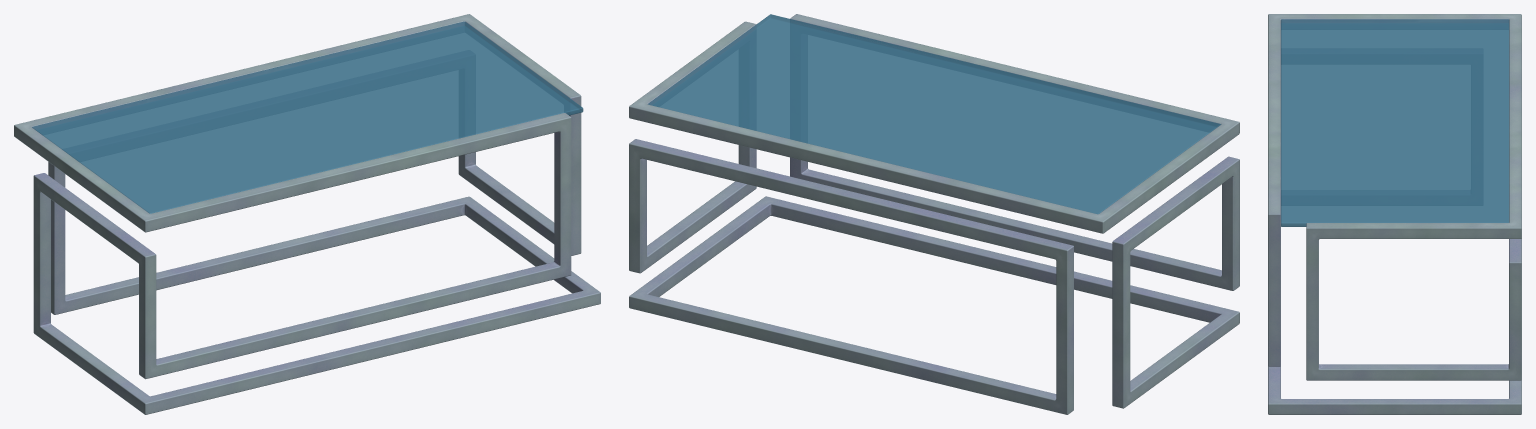
File: Infinity_Table.glb
3 views of the same model, side by side, from view 1: azimuth 30°, elevation 25°; view 2: azimuth 150°, elevation 25°; view 3: azimuth 270°, elevation 25° (orthographic). The views are drawn at different scales.
Visible parts, largest first — view 1: Infinity_Table; view 2: Infinity_Table; view 3: Infinity_Table.
Part boxes in pixels (x1,y1,x2,y2): Infinity_Table: [14, 14, 600, 414]; Infinity_Table: [629, 14, 1239, 414]; Infinity_Table: [1268, 14, 1521, 414].
Bounding box in the file's own units: 1 × 0.4074 × 0.5.
Materials: 2 (2 with a texture image).
